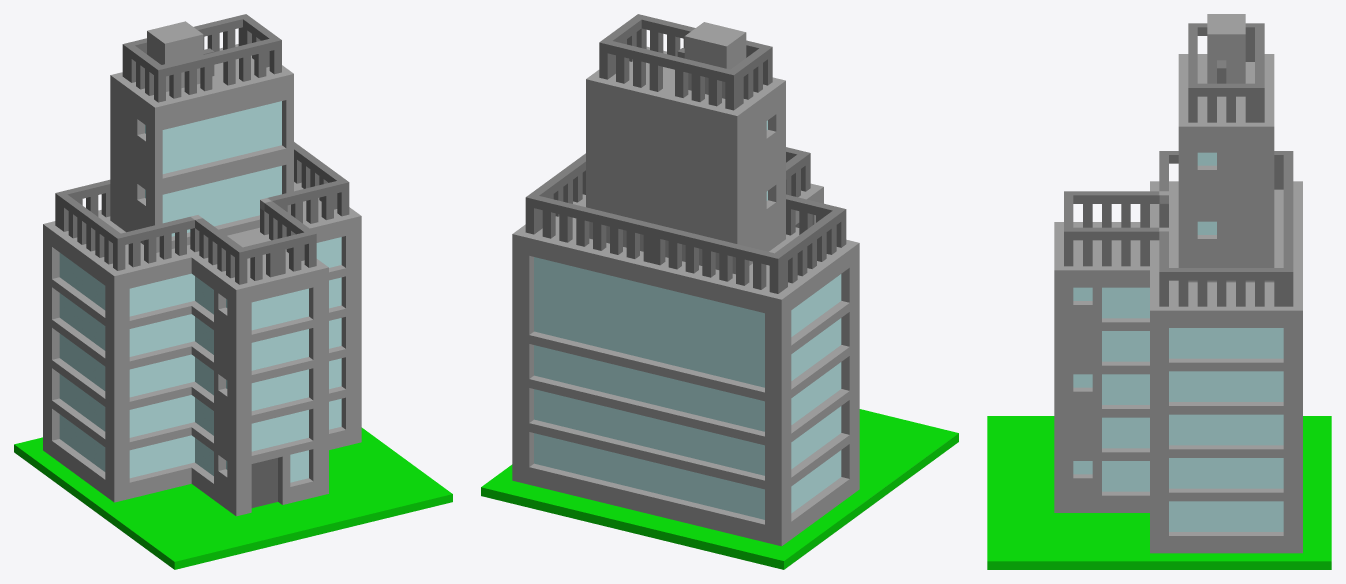
The model's file is building_04.fbx.
3 renders of one model, left to right at view 1: azimuth 30°, elevation 25°; view 2: azimuth 150°, elevation 25°; view 3: azimuth 270°, elevation 25°, orthographic. The views are drawn at different scales.
Visible parts, largest first — view 1: building_04; view 2: building_04; view 3: building_04.
Part boxes in pixels (x1,y1,x2,y2): building_04: (14,14,452,569); building_04: (481,14,958,569); building_04: (987,14,1331,569).
Size of the model in its own units: 360 by 530 by 360.
Materials: 1 (1 with a texture image).
